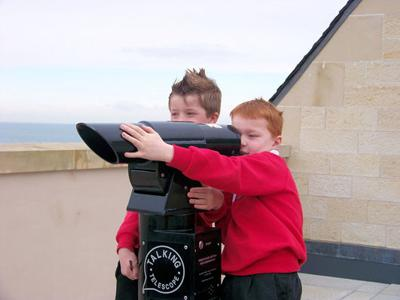person: (118, 100, 305, 300)
